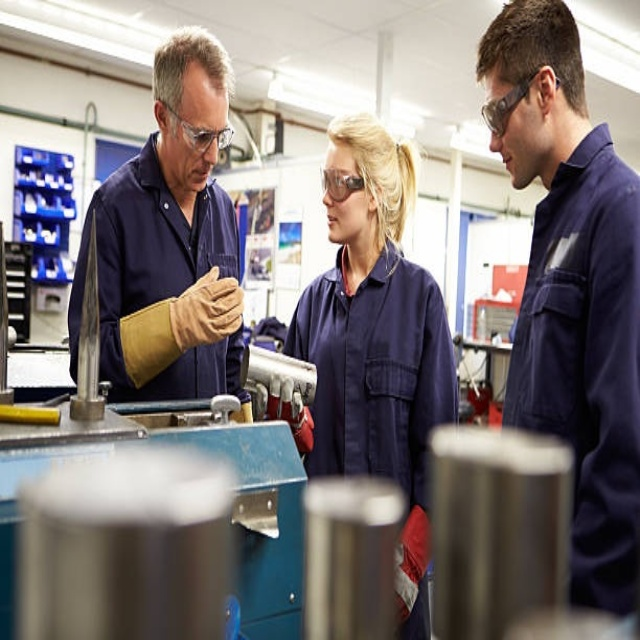Gafas: (481, 69, 555, 137), (166, 104, 235, 154), (321, 166, 366, 201)
Guantes: (114, 260, 247, 386), (253, 373, 318, 458)
Sin_mascara: (494, 147, 525, 190), (184, 162, 212, 191), (325, 207, 345, 240)
